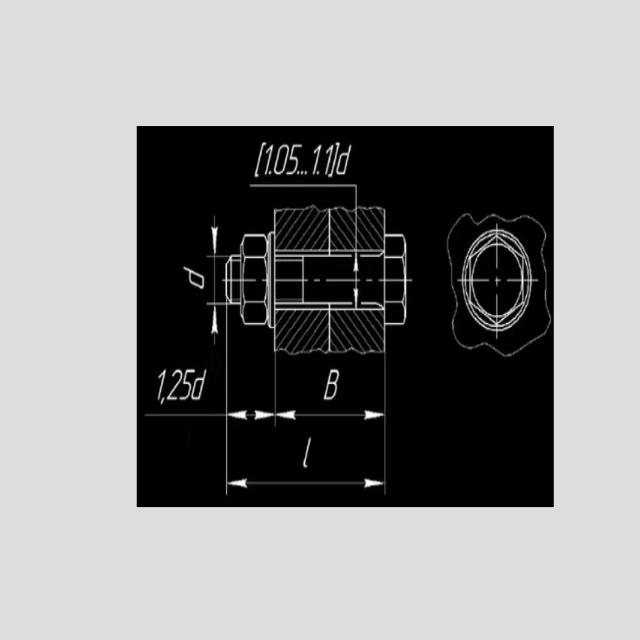marking_line: (227, 477, 384, 488), (276, 410, 383, 422), (229, 406, 272, 422), (206, 213, 219, 256), (208, 305, 221, 342)
numeric: (287, 141, 305, 182), (180, 368, 195, 407), (167, 363, 180, 407), (273, 142, 288, 179), (311, 142, 323, 180), (154, 365, 165, 403), (323, 141, 334, 179), (264, 145, 272, 176)
